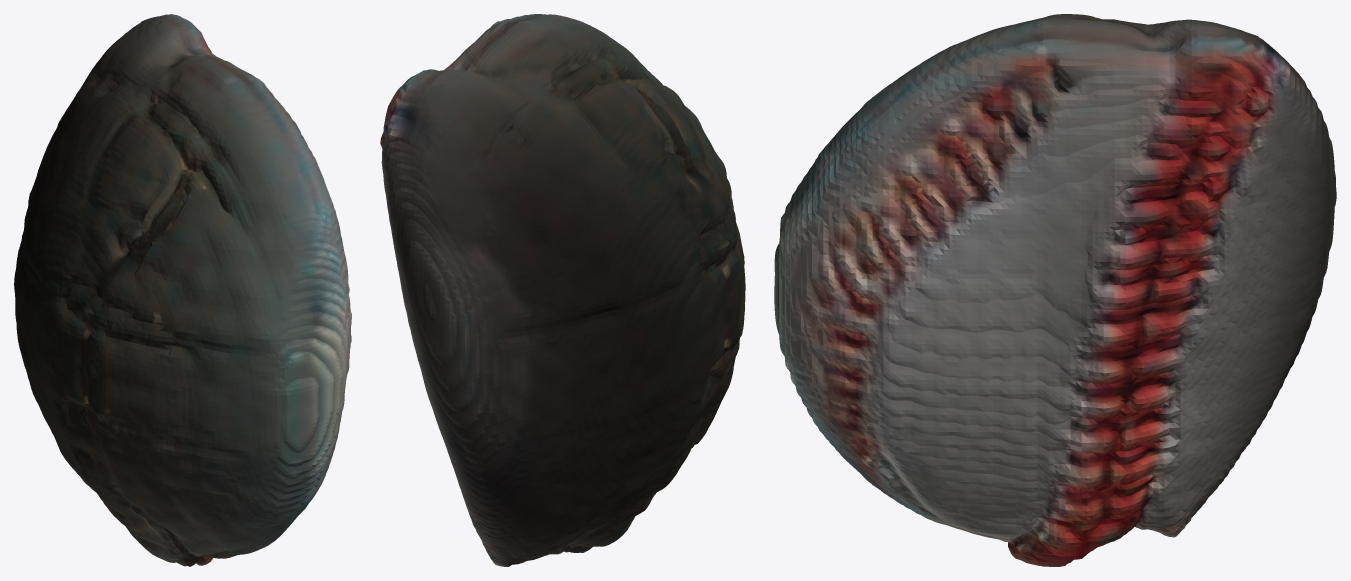
3 renders of one model, left to right at view 1: azimuth 30°, elevation 25°; view 2: azimuth 150°, elevation 25°; view 3: azimuth 270°, elevation 25°, orthographic. The views are drawn at different scales.
Size of the model in its own units: 0.4092 by 0.7689 by 0.6975.
